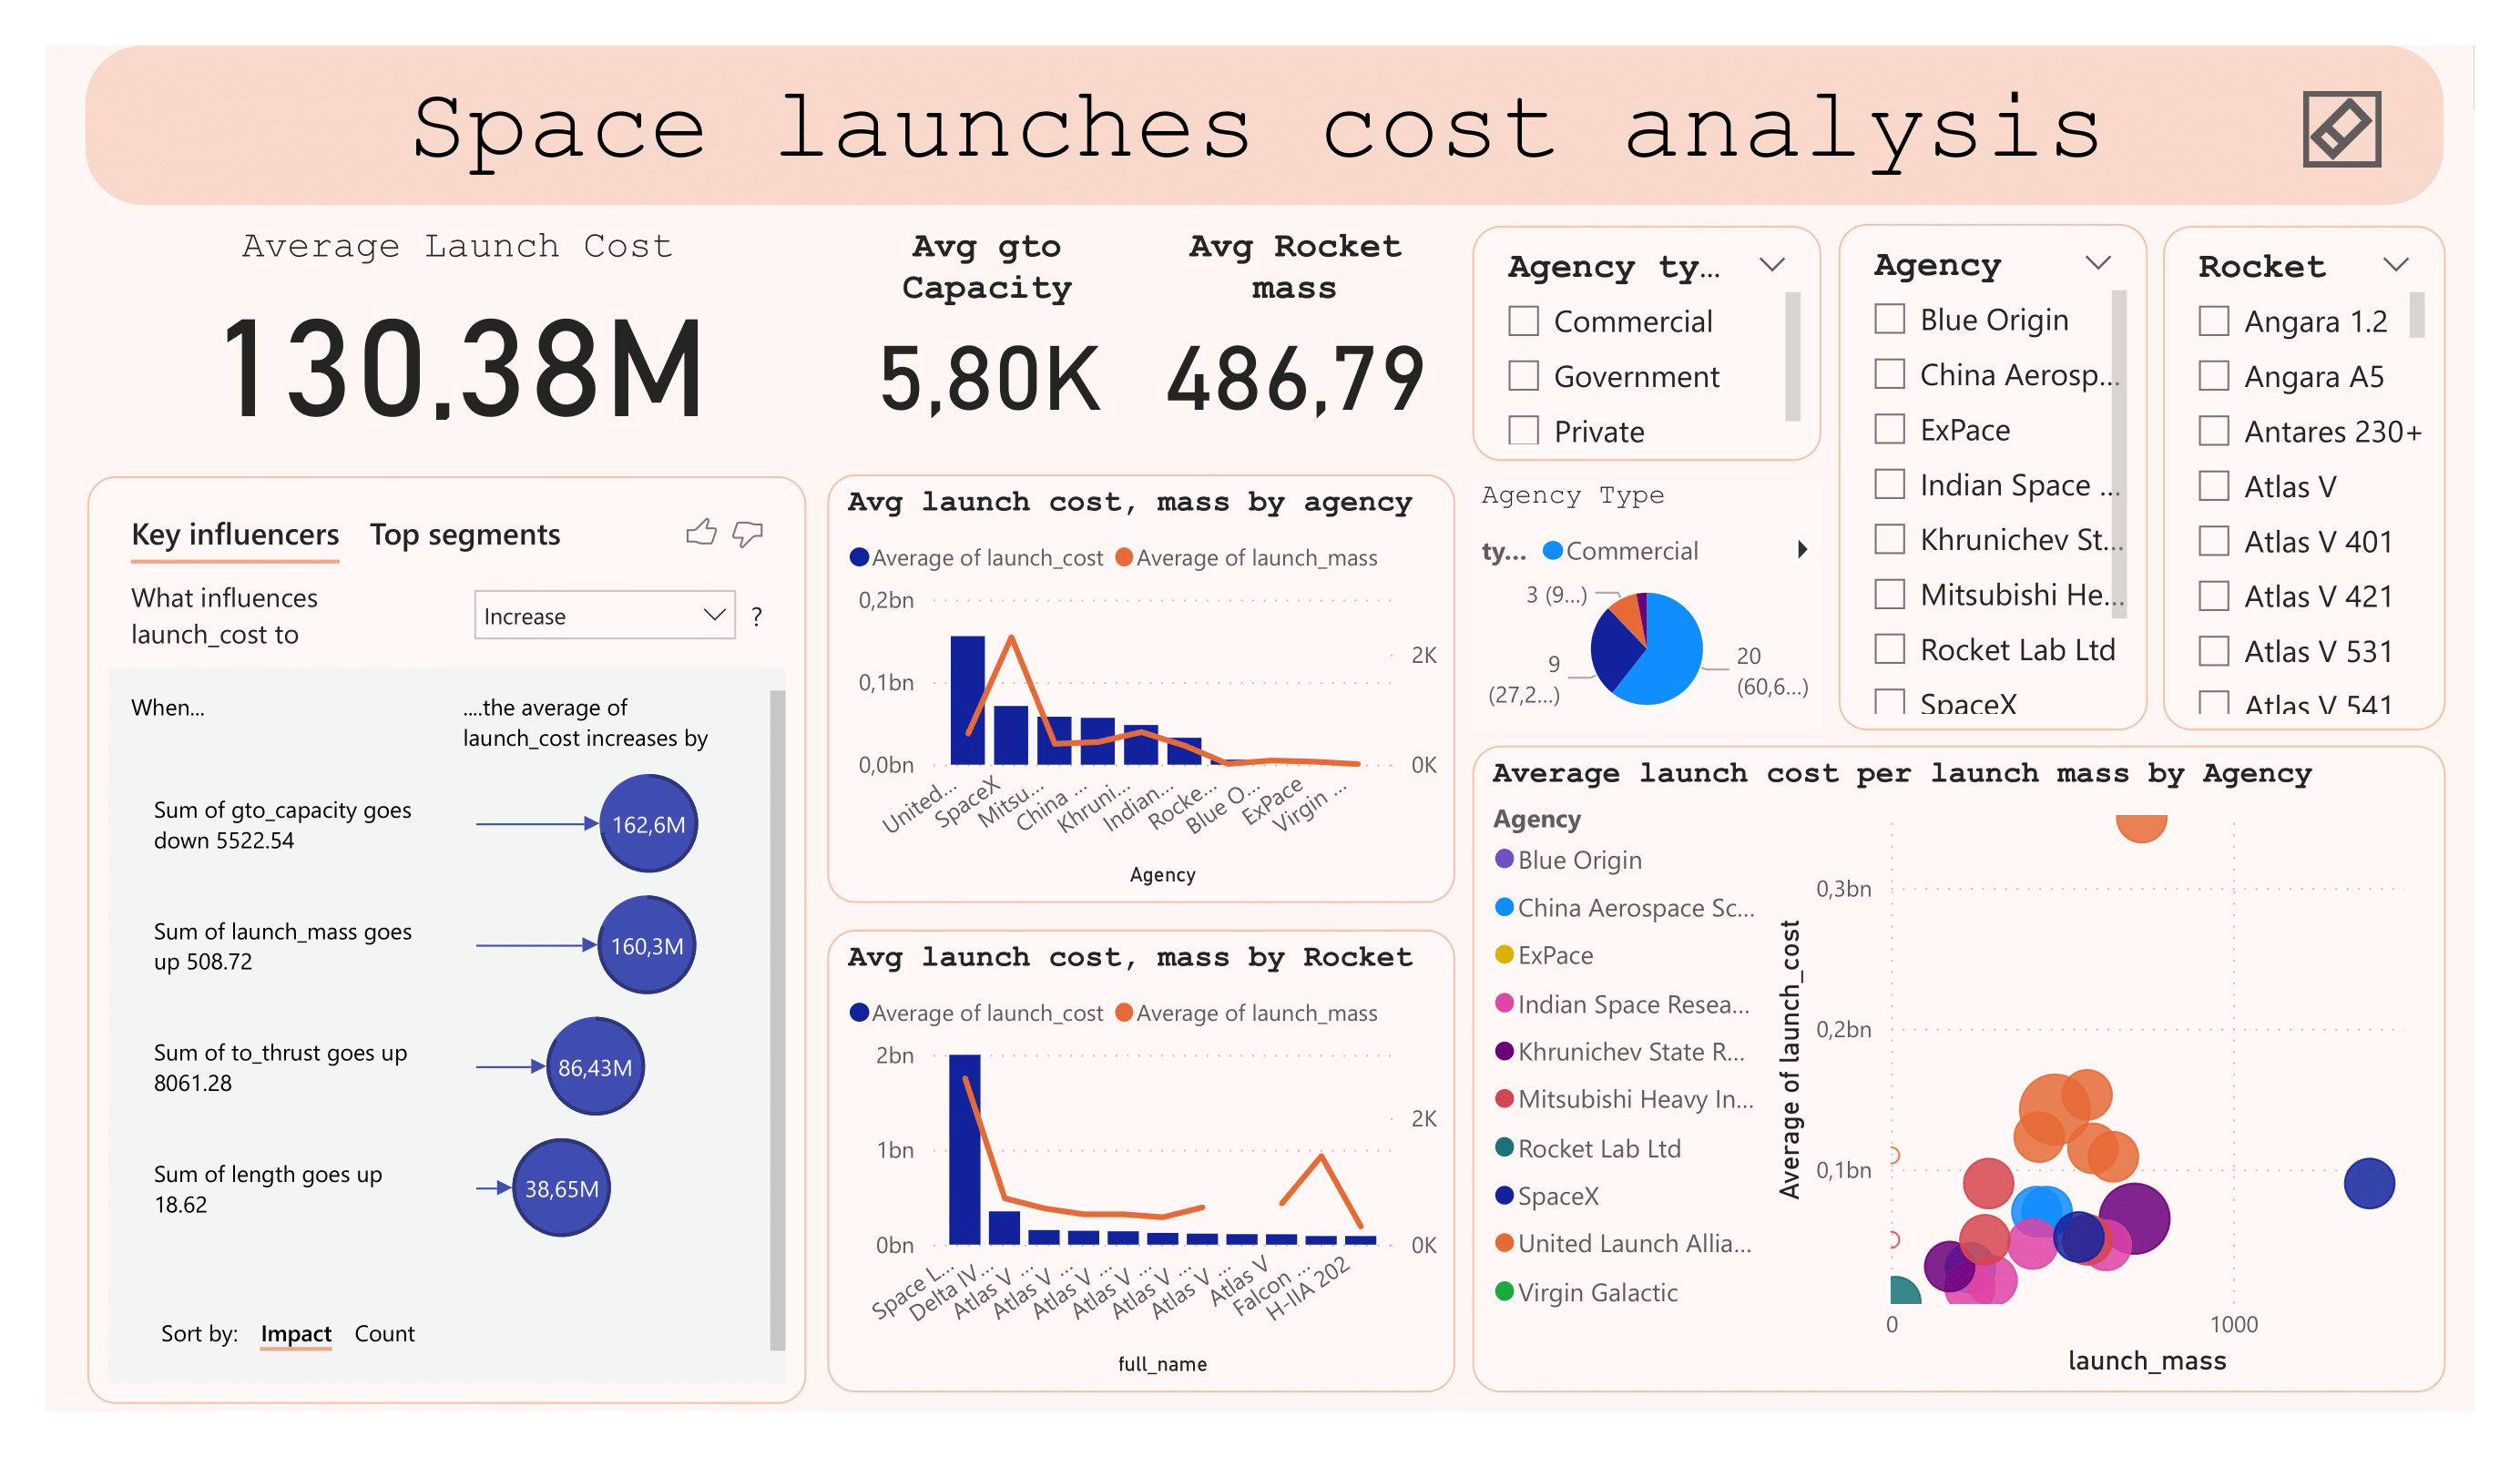

Layout of this report page (visuals, bound fields, positions):
{"tool":"powerbi","page":{"name":"Cost Analysis","canvas":[1280,720],"ordinal":1},"visuals":[{"type":"image","box":[0,0,1278.6,720],"z":0},{"type":"lineClusteredColumnComboChart","title":"Avg launch cost, mass by agency","fields":{"Category":["dm_agency.name"],"Y":["dm_rocket.launch_cost"],"Y2":["dm_rocket.launch_mass"]},"box":[412,226.1,331.3,226.1],"z":1000},{"type":"scatterChart","title":"Average launch cost per launch mass by Agency","fields":{"Y":["dm_rocket.launch_cost"],"X":["dm_rocket.launch_mass"],"Size":["dm_rocket.launch_mass"],"Series":["dm_agency.name"]},"box":[751.8,369.2,513.4,341.1],"z":2000},{"type":"keyDriversVisual","fields":{"Target":["dm_rocket.launch_cost"],"ExplainBy":["dm_rocket.launch_mass","dm_rocket.length","dm_rocket.reusable","dm_rocket.to_thrust","dm_agency.name","dm_rocket.diameter","dm_rocket.gto_capacity"]},"box":[22,227.4,378.9,489],"z":3000},{"type":"textbox","box":[129.6,14.7,1018.3,69.7],"z":4000},{"type":"card","title":"Average Launch Cost","fields":{"Values":["KPI_For_Agency.launch_cost"]},"box":[23.2,94.1,388.7,107.6],"z":5000},{"type":"lineClusteredColumnComboChart","title":"Avg launch cost, mass by Rocket","fields":{"Category":["dm_rocket.full_name"],"Y":["dm_rocket.launch_cost"],"Y2":["dm_rocket.launch_mass"]},"box":[412,465.7,331.3,244.5],"z":6000},{"type":"slicer","fields":{"Values":["dm_rocket.full_name"]},"box":[1116.1,95.3,149.1,265.3],"z":7000},{"type":"slicer","fields":{"Values":["dm_agency.name"]},"box":[944.9,94.1,162.6,266.5],"z":8000},{"type":"card","title":"Avg gto Capacity","fields":{"Values":["dm_rocket.gto_capacity"]},"box":[412,95.3,168.7,106.3],"z":9000},{"type":"card","title":"Avg Rocket mass","fields":{"Values":["dm_rocket.launch_mass"]},"box":[578.2,95.3,161.4,106.3],"z":10000},{"type":"pieChart","title":"Agency Type","fields":{"Y":["dm_agency.type"],"Category":["dm_agency.type"]},"box":[751.8,228.6,184.6,132],"z":11000},{"type":"slicer","fields":{"Values":["dm_agency.type"]},"box":[751.8,95.3,184.6,123.5],"z":12000},{"type":"actionButton","box":[1226.1,29.3,39.1,40.3],"z":13000}]}

Visuals, with their boxes on the page's 1280x720 design canvas (x1, y1, x2, y2). These are canvas units, not pixel positions in the 2520x1457 screenshot, which may show the page scaled, cropped or inside an application window:
image: (left=0, top=0, right=1279, bottom=720)
"Avg launch cost, mass by agency" lineClusteredColumnComboChart: (left=412, top=226, right=743, bottom=452)
"Average launch cost per launch mass by Agency" scatterChart: (left=752, top=369, right=1265, bottom=710)
keyDriversVisual - dm_rocket.launch_cost x dm_rocket.launch_mass: (left=22, top=227, right=401, bottom=716)
textbox: (left=130, top=15, right=1148, bottom=84)
"Average Launch Cost" card: (left=23, top=94, right=412, bottom=202)
"Avg launch cost, mass by Rocket" lineClusteredColumnComboChart: (left=412, top=466, right=743, bottom=710)
slicer - dm_rocket.full_name: (left=1116, top=95, right=1265, bottom=361)
slicer - dm_agency.name: (left=945, top=94, right=1108, bottom=361)
"Avg gto Capacity" card: (left=412, top=95, right=581, bottom=202)
"Avg Rocket mass" card: (left=578, top=95, right=740, bottom=202)
"Agency Type" pieChart: (left=752, top=229, right=936, bottom=361)
slicer - dm_agency.type: (left=752, top=95, right=936, bottom=219)
actionButton: (left=1226, top=29, right=1265, bottom=70)
